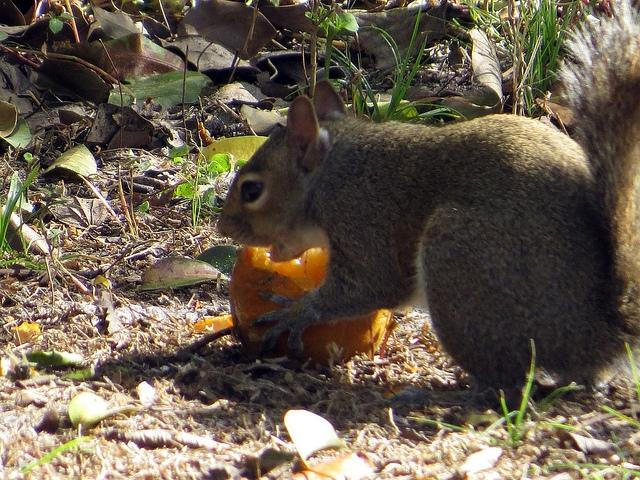orange: (193, 246, 393, 366)
